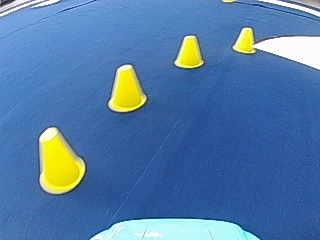cone: (37, 126, 85, 193), (107, 63, 146, 112), (174, 34, 204, 68), (232, 26, 255, 54)
